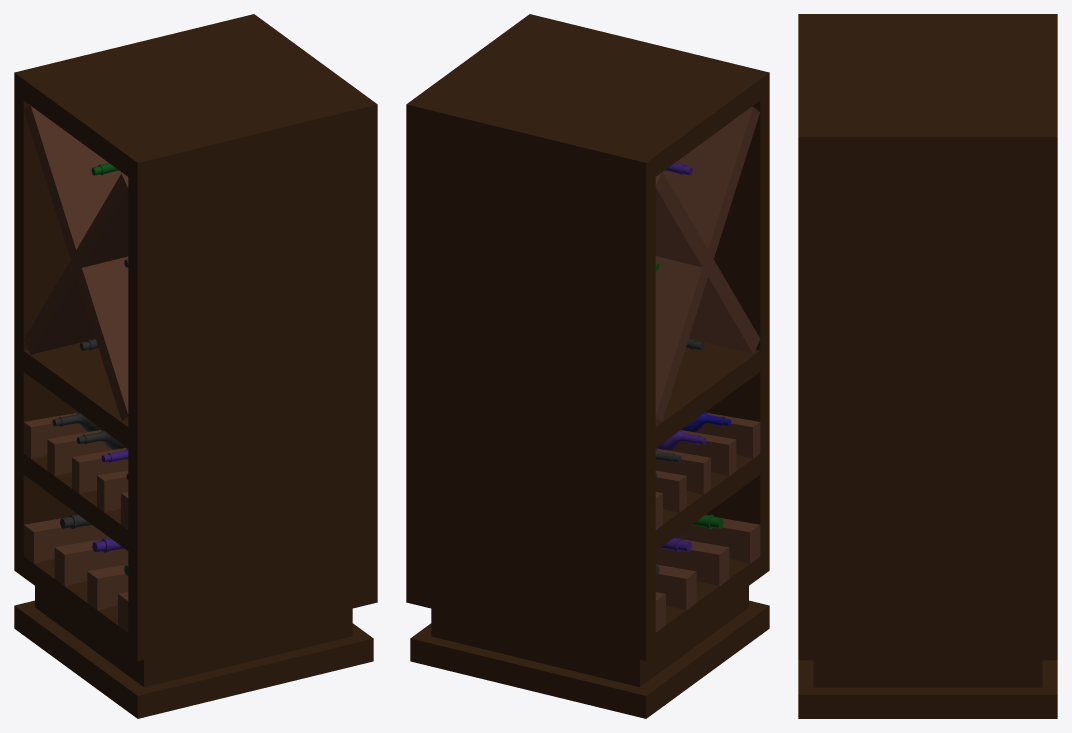
Rendered from WineStack.fbx.
3 renders of one model, left to right at view 1: azimuth 30°, elevation 25°; view 2: azimuth 150°, elevation 25°; view 3: azimuth 270°, elevation 25°, orthographic. The views are drawn at different scales.
Parts seen in each view (by area): view 1: WineStack:Mesh; view 2: WineStack:Mesh; view 3: WineStack:Mesh.
Boxes of the visible parts, x1,y1,x2,y2 form: WineStack:Mesh: (14,14,377,718); WineStack:Mesh: (406,14,769,718); WineStack:Mesh: (798,14,1057,718).
Bounding box in the file's own units: 74.41 × 165 × 66.34.
